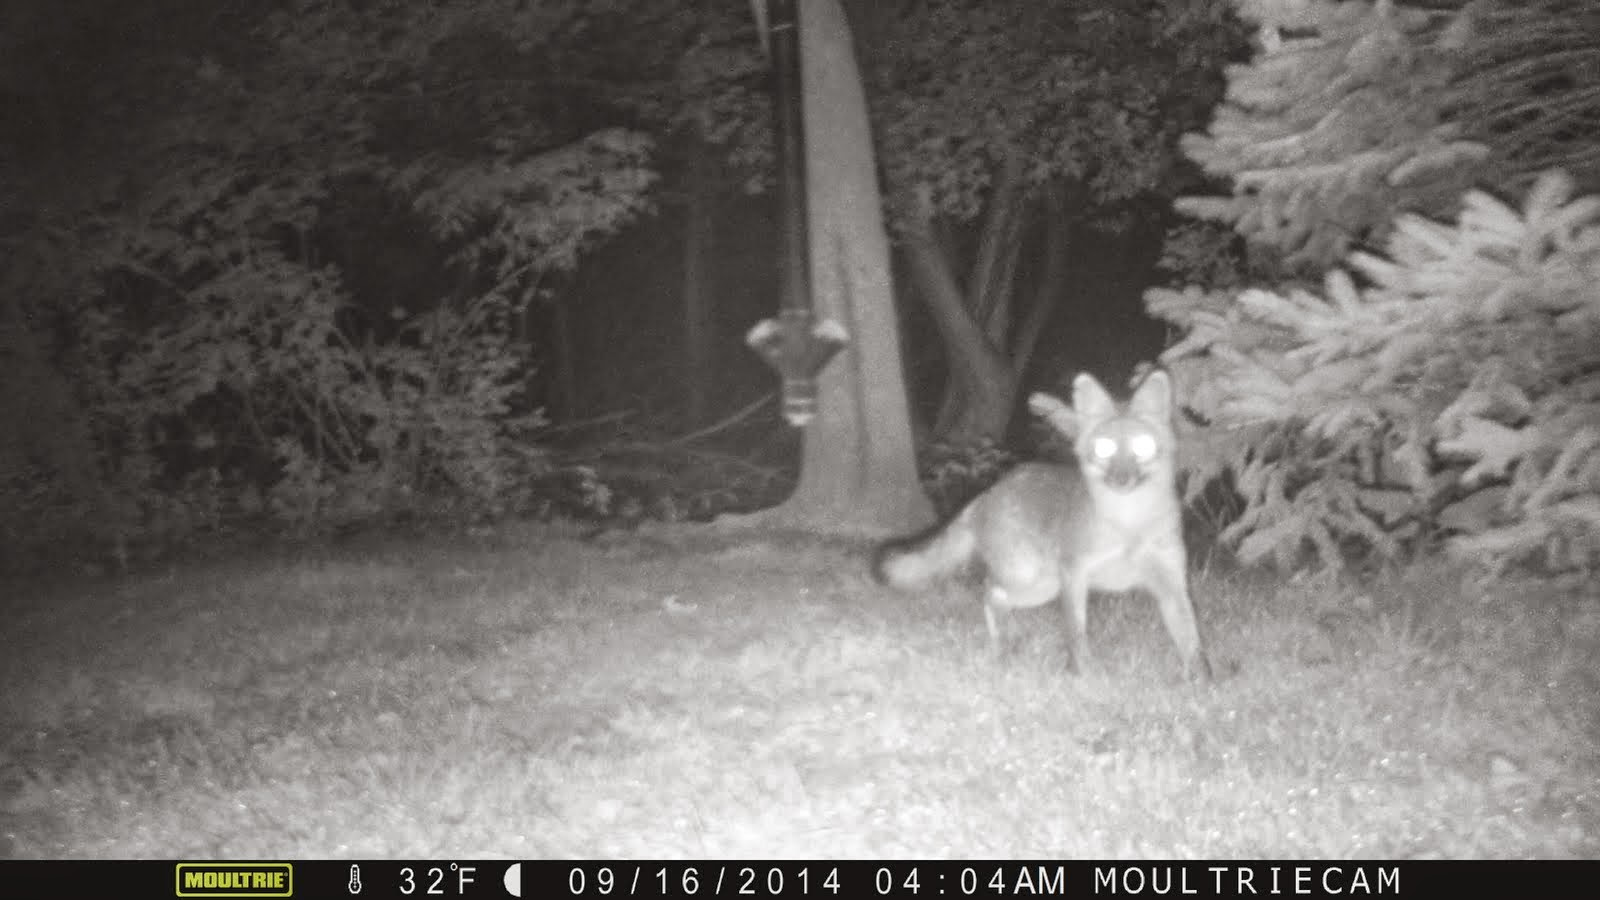fox: (857, 347, 1253, 705)
